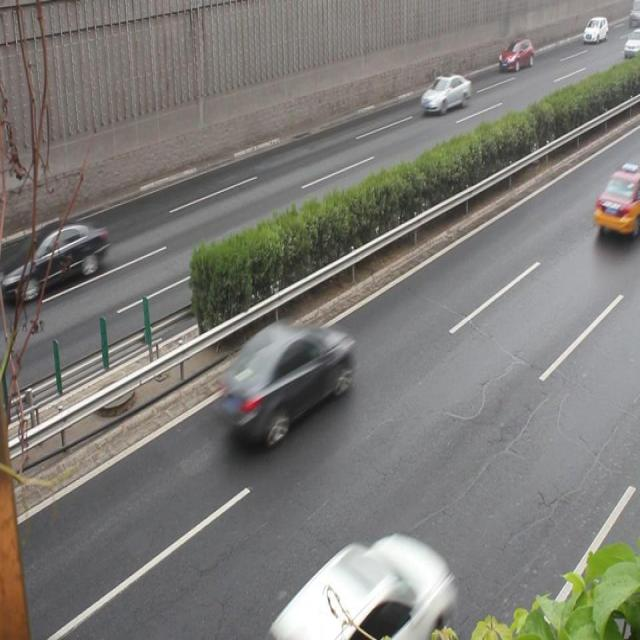car: (219, 316, 352, 444), (10, 218, 106, 299), (592, 163, 640, 238), (418, 73, 471, 117), (497, 36, 534, 74)
